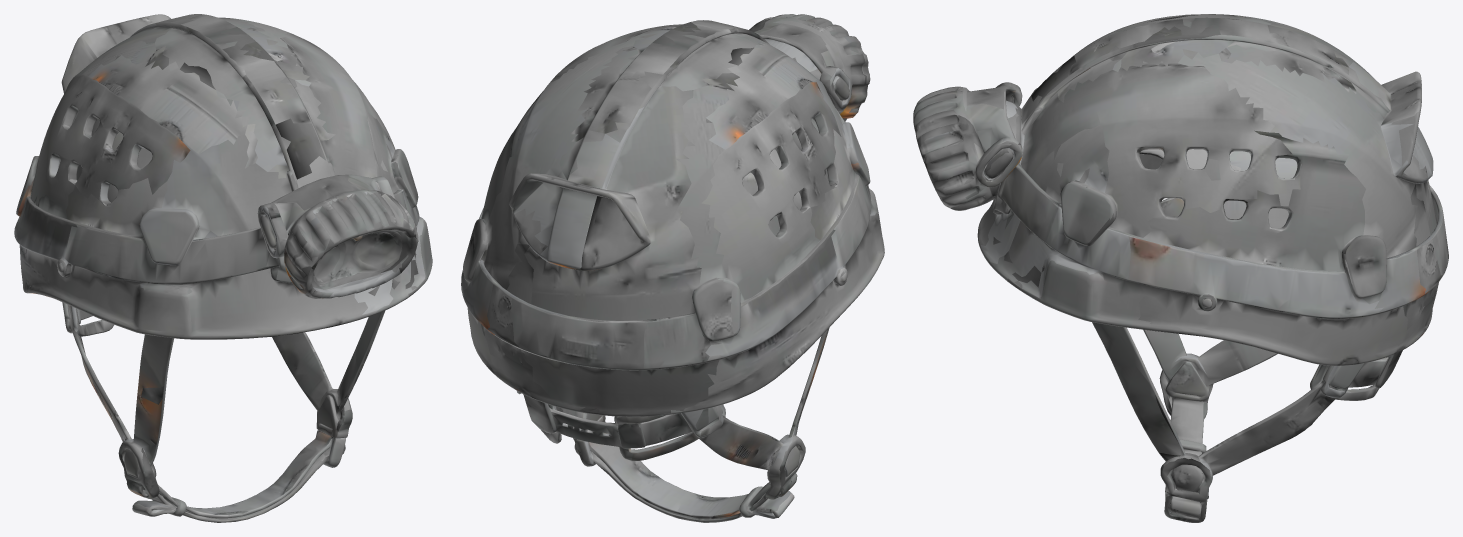
The model's file is casque - the descent.glb.
The picture shows the model from 3 angles, left to right: view 1: azimuth 30°, elevation 25°; view 2: azimuth 150°, elevation 25°; view 3: azimuth 270°, elevation 25°; orthographic projection.
Visible parts, largest first — view 1: node_0; view 2: node_0; view 3: node_0.
Boxes of the visible parts, bbox=[...] form: node_0: bbox=[14, 14, 432, 522]; node_0: bbox=[461, 14, 884, 522]; node_0: bbox=[913, 14, 1448, 522].
Bounding box in the file's own units: 0.7493 × 1.01 × 1.02.
Materials: 1 (1 with a texture image).
